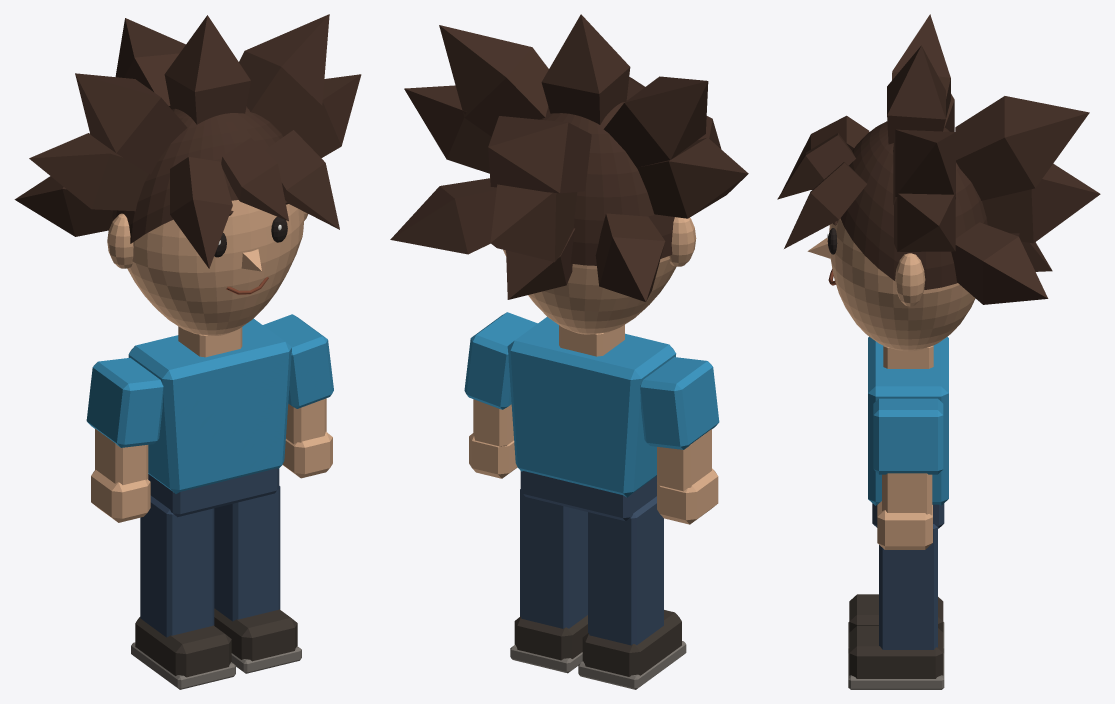
File: avatar-mii-kenney-cabelo-mechas-01.fbx
The picture shows the model from 3 angles, left to right: view 1: azimuth 30°, elevation 25°; view 2: azimuth 150°, elevation 25°; view 3: azimuth 270°, elevation 25°; orthographic projection. The views are drawn at different scales.
Visible parts, largest first — view 1: Cabelo_mechas_01, Corpo_01, Cabeca_01, Perna_L, Perna_R, Manga, Sapato_L, Manga.001, Quadril, Sapato_R, Mao, Antebraco (+6 smaller); view 2: Cabelo_mechas_01, Corpo_01, Perna_L, Perna_R, Manga, Cabeca_01, Manga.001, Quadril, Sapato_L, Sapato_R, Antebraco, Mao (+6 smaller); view 3: Cabelo_mechas_01, Cabeca_01, Perna_R, Manga.001, Corpo_01, Sapato_R, Mao.001, Antebraco.001, Orelha_R, Sola.001, Sapato_L, Pescoco.
Part boxes in pixels (x1,y1,x2,y2): Cabelo_mechas_01: (14, 14, 361, 268); Corpo_01: (128, 318, 291, 493); Cabeca_01: (127, 200, 304, 335); Perna_L: (140, 495, 214, 637); Perna_R: (214, 486, 280, 621); Manga: (86, 358, 163, 447); Sapato_L: (135, 617, 231, 677); Manga.001: (263, 314, 333, 408); Quadril: (148, 468, 279, 517); Sapato_R: (214, 608, 297, 661); Mao: (91, 470, 150, 522); Antebraco: (95, 428, 148, 484); Cabelo_mechas_01: (390, 14, 748, 301); Corpo_01: (507, 317, 676, 497); Perna_L: (588, 496, 663, 645); Perna_R: (520, 489, 587, 628); Manga: (640, 357, 719, 449); Cabeca_01: (503, 249, 676, 334); Manga.001: (464, 312, 537, 409); Quadril: (520, 471, 656, 521); Sapato_L: (582, 610, 681, 676); Sapato_R: (514, 615, 587, 660); Antebraco: (657, 429, 711, 491); Mao: (657, 468, 718, 524); Cabelo_mechas_01: (777, 14, 1100, 304); Cabeca_01: (829, 218, 975, 351); Perna_R: (879, 524, 937, 649); Manga.001: (873, 398, 943, 474); Corpo_01: (868, 337, 948, 505); Sapato_R: (849, 626, 943, 678); Mao.001: (877, 501, 932, 549); Antebraco.001: (882, 473, 932, 514); Orelha_R: (894, 253, 925, 306); Sola.001: (848, 653, 944, 689); Sapato_L: (849, 594, 943, 632); Pescoco: (883, 345, 933, 368).
Bounding box in the file's own units: 172 × 312 × 148.
